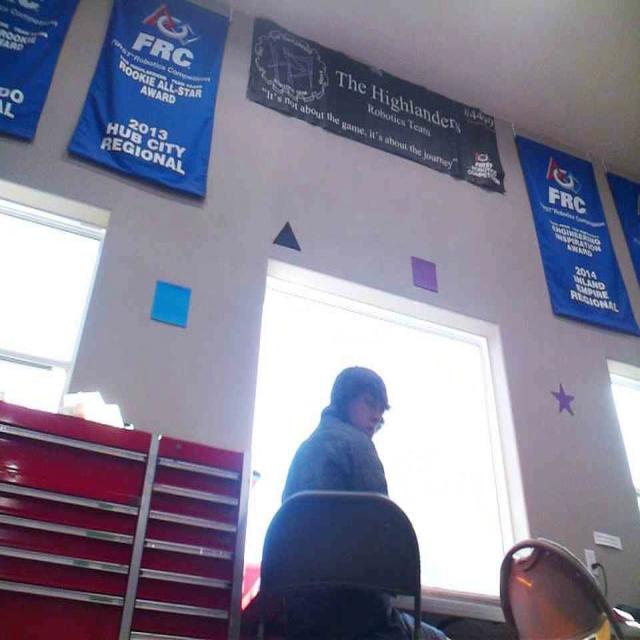square_blue: (148, 279, 192, 328)
square_purple: (410, 256, 438, 292)
star_purple: (549, 381, 573, 415)
triangle_black: (272, 220, 301, 250)
